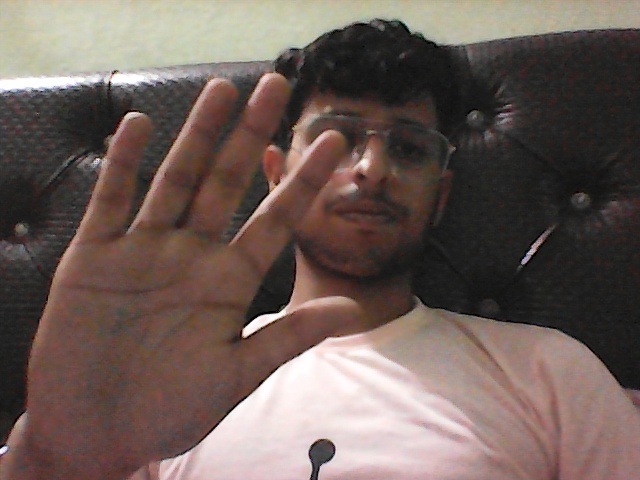hello: (12, 63, 384, 480)
